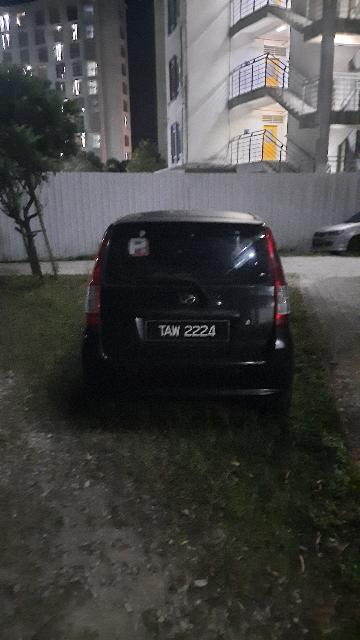License_Plate: (144, 315, 237, 350)
car: (82, 209, 303, 420)
